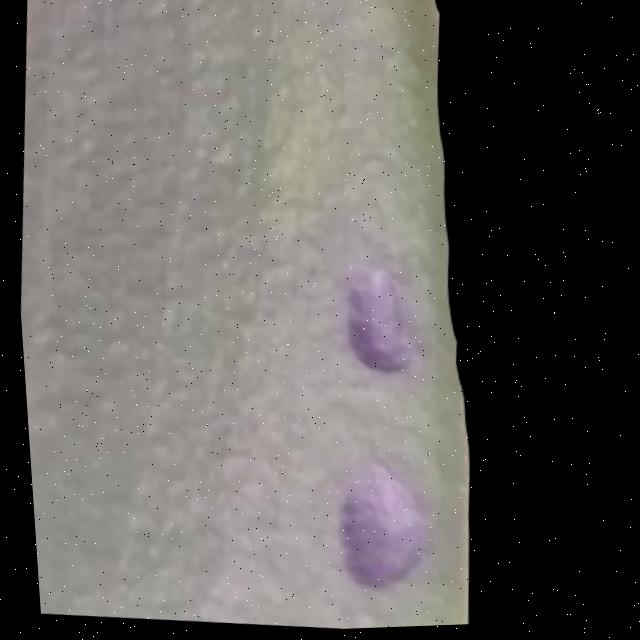mite: (410, 0, 640, 629), (318, 255, 437, 598), (431, 0, 640, 25), (618, 7, 640, 25), (612, 6, 640, 15)
sunburn: (321, 457, 430, 599), (332, 261, 418, 384)
